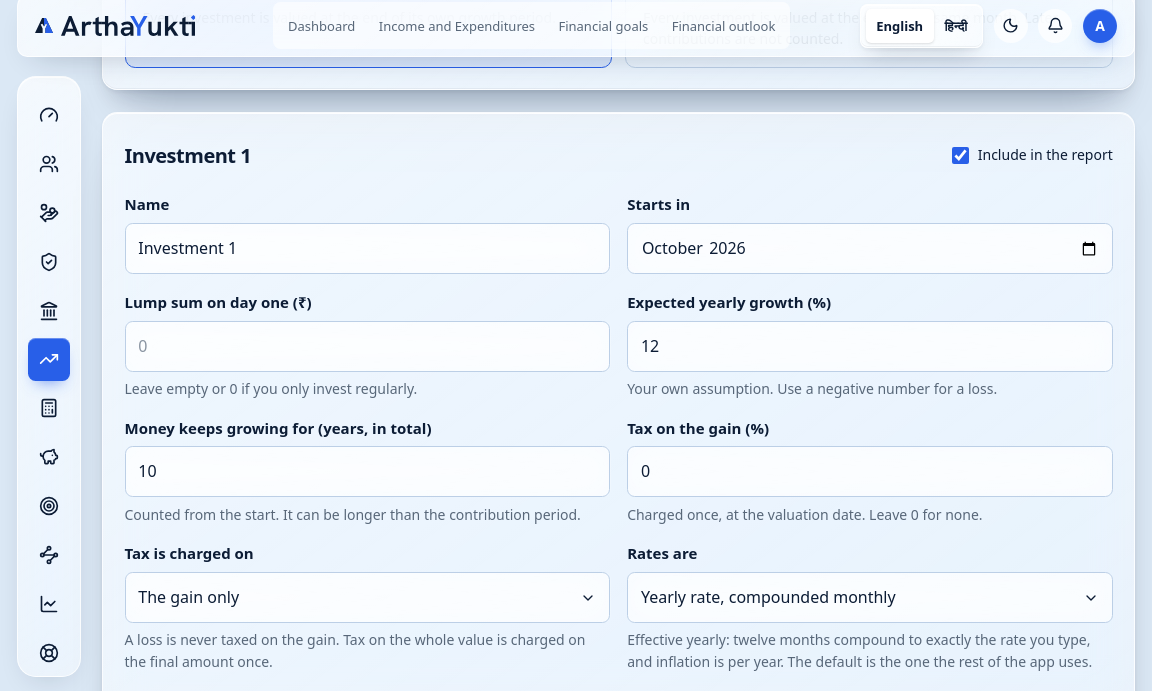
the Calculators page › says so when the name is already taken
(page scrolled)
Type "100000" into the field labelled "Lump sum on day one (₹)".
click(367, 346); type("100000")  # box [124,321,610,372]
(page scrolled)
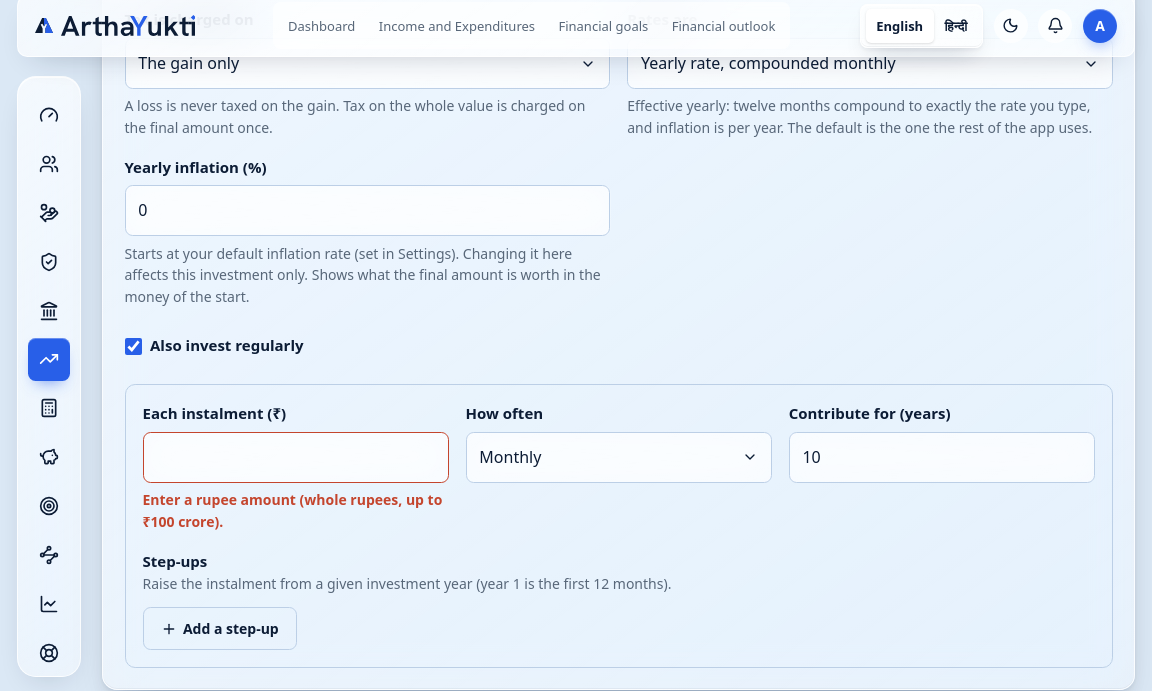
Click the checkbox labelled "Also invest regularly".
click(133, 346)  # box [124,338,142,355]
(page scrolled)
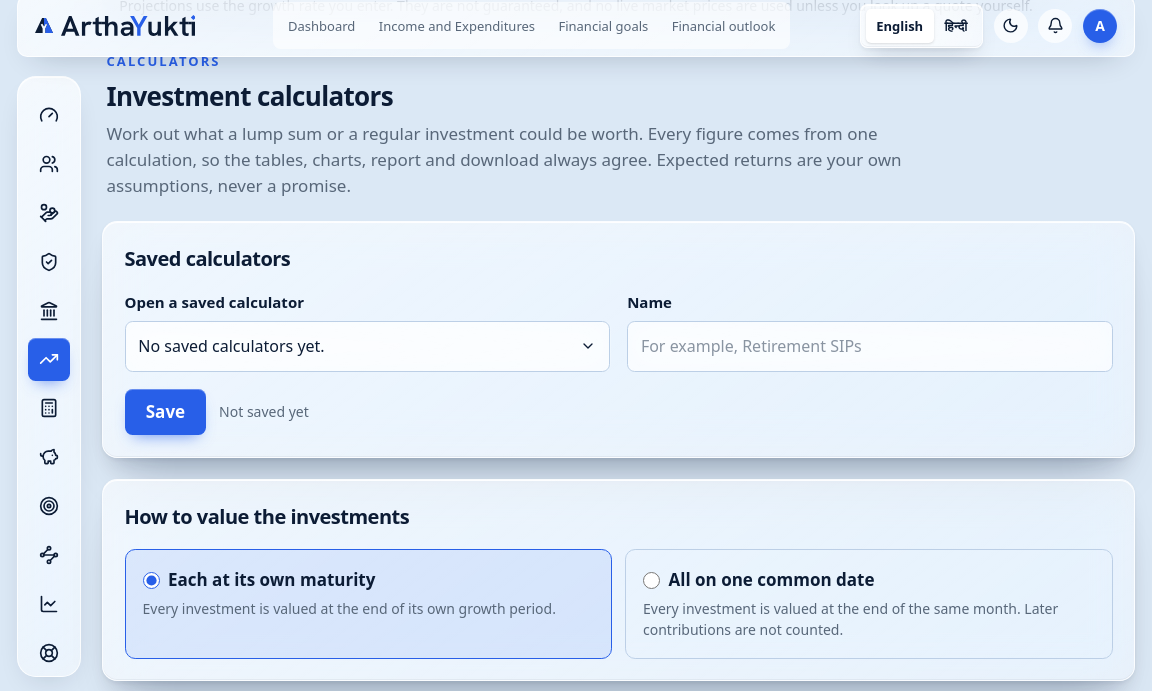
Type "Mine" into the field labelled "Name".
click(870, 346); type("Mine")  # box [627,321,1113,372]
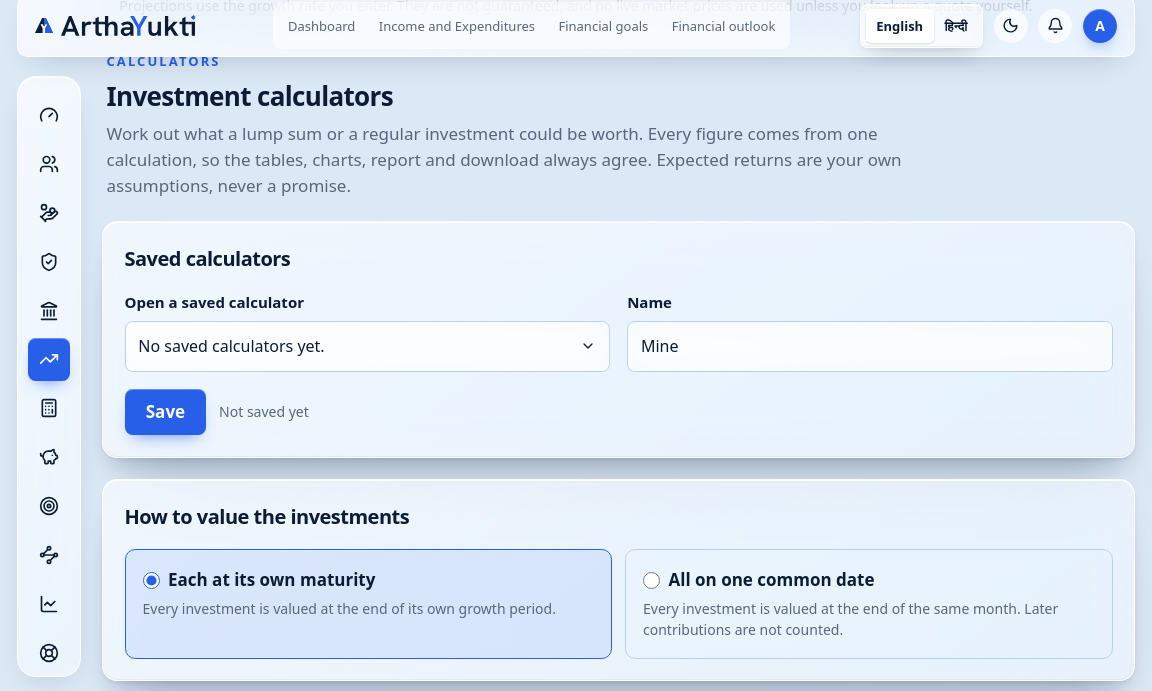
Click the button "Save".
click(165, 412)  # box [124,389,206,436]
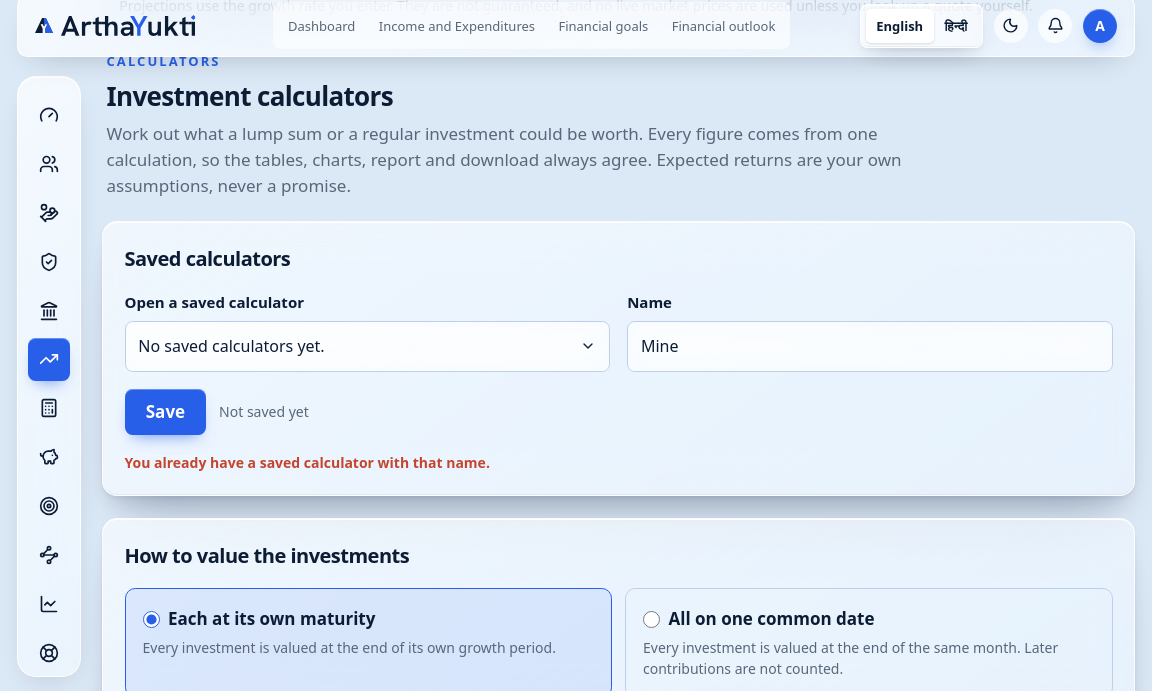
Result: the text "You already have a saved calculator with that name." is shown at [124,453,490,472]
